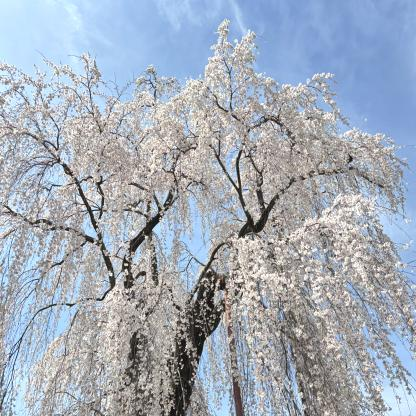ShidareZakura: (0, 16, 416, 416)
